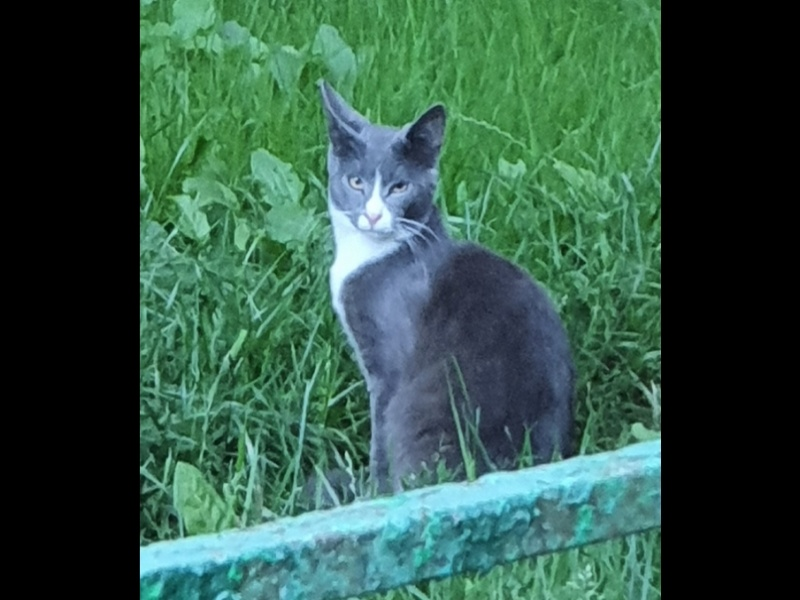cat: (307, 79, 576, 494)
